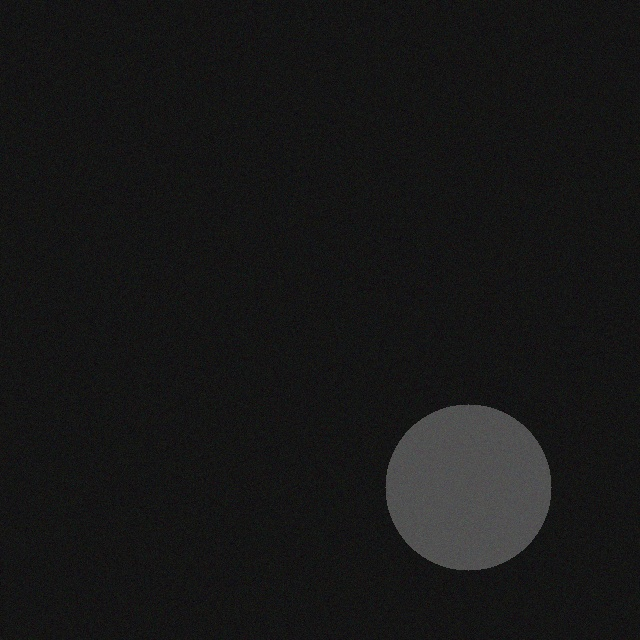circle: (393, 393, 559, 559)
